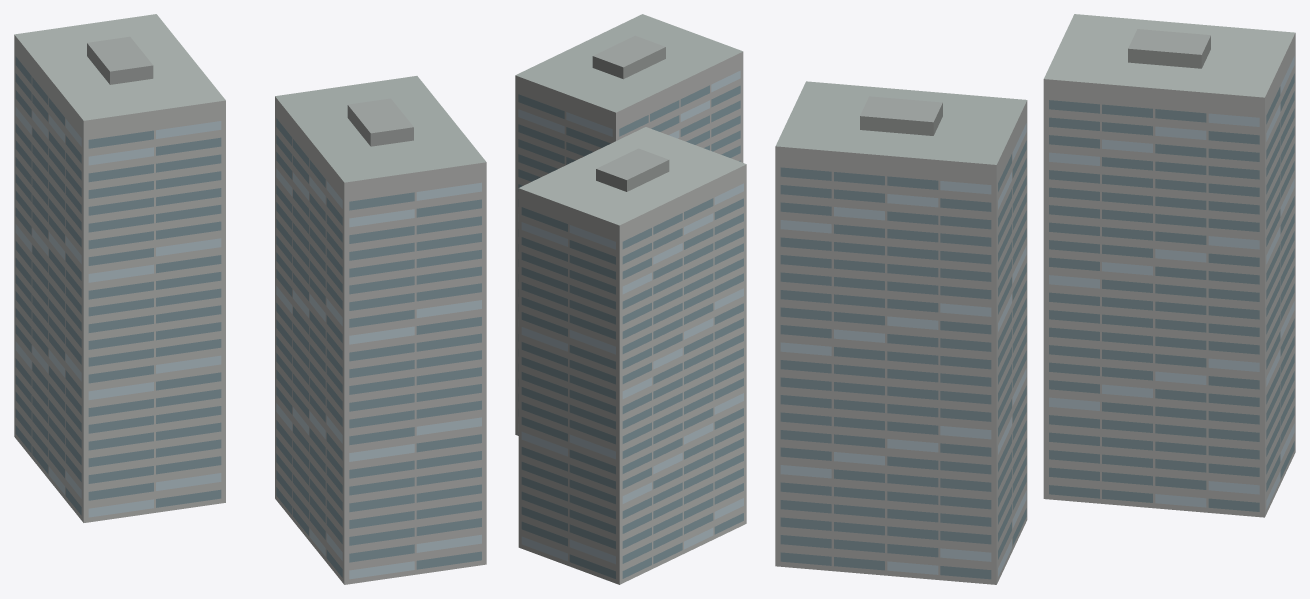
The model's file is apt-a10024316.glb.
3 renders of one model, left to right at view 1: azimuth 30°, elevation 25°; view 2: azimuth 150°, elevation 25°; view 3: azimuth 270°, elevation 25°, orthographic. The views are drawn at different scales.
Parts seen in each view (by area): view 1: apt-a10024316; view 2: apt-a10024316; view 3: apt-a10024316.
Boxes of the visible parts, <box> form: apt-a10024316: <box>14,14,486,584</box>; apt-a10024316: <box>515,14,746,584</box>; apt-a10024316: <box>775,14,1295,584</box>.
Bounding box in the file's own units: 55.97 × 75 × 81.47.
